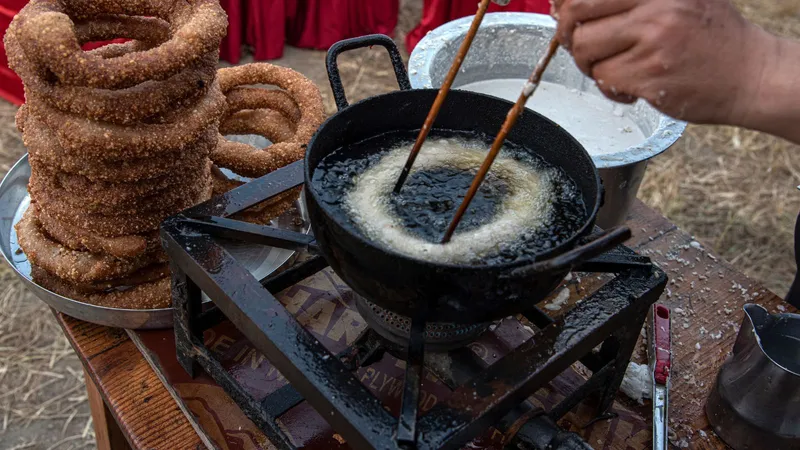sel_roti: (350, 135, 549, 258), (19, 2, 222, 69), (24, 94, 222, 156), (212, 63, 325, 169), (12, 243, 183, 289)
